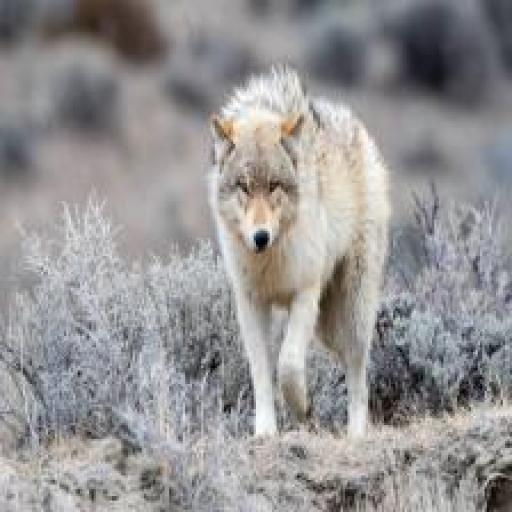wolf: (190, 46, 422, 472)
